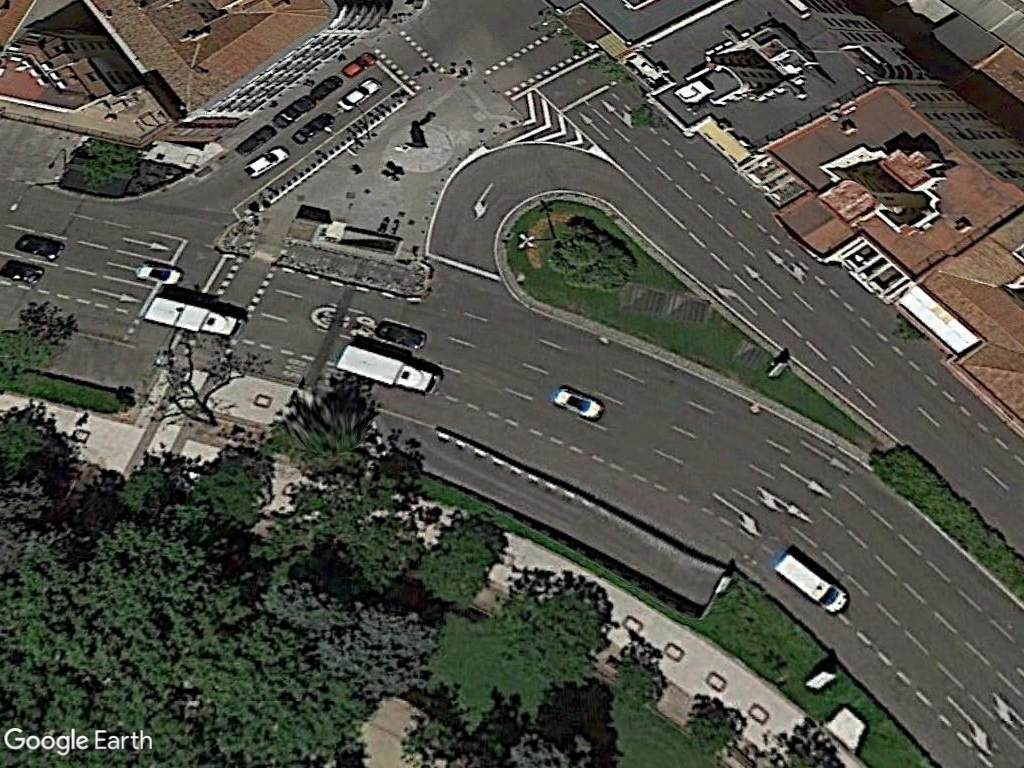truck: (332, 339, 442, 398), (765, 548, 853, 618), (143, 294, 244, 340)
